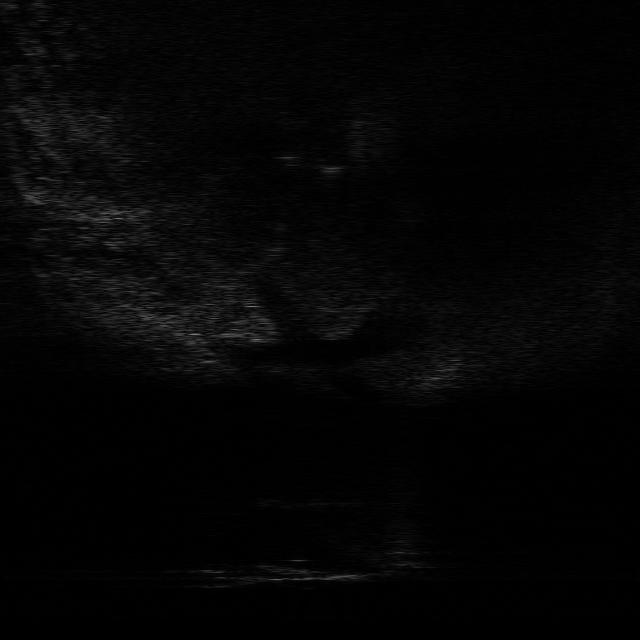plane: (184, 530, 438, 590)
